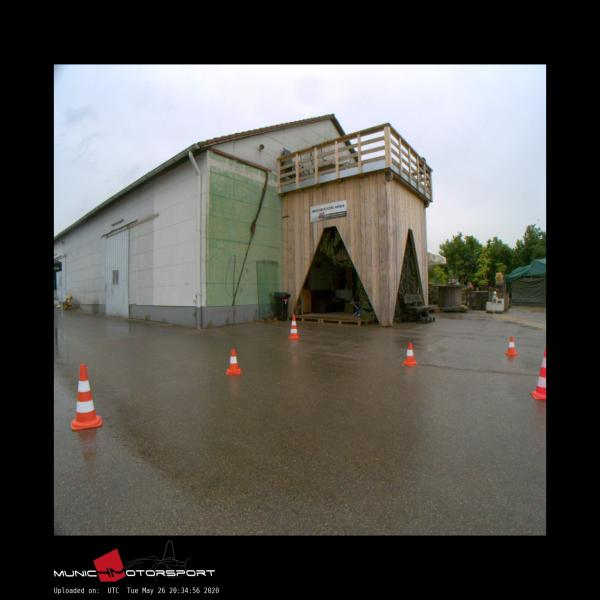large_orange_cone: (70, 364, 102, 429), (530, 347, 546, 398), (288, 314, 300, 338)
orange_cone: (225, 348, 241, 374), (402, 342, 418, 366), (506, 336, 516, 355)
